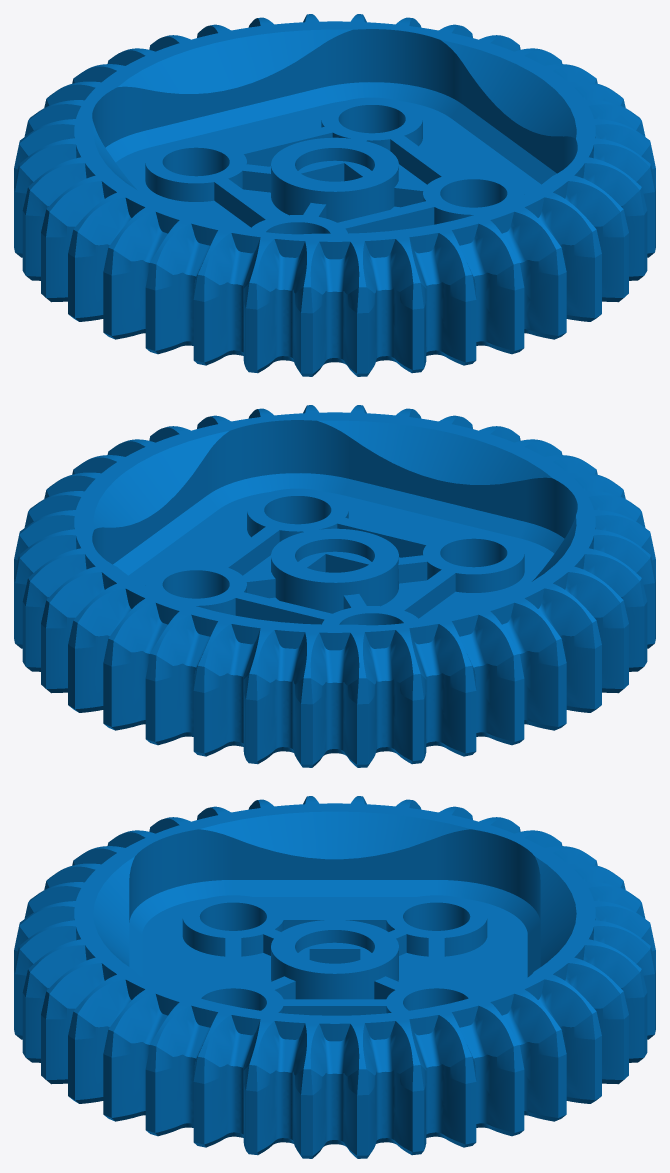
3 views of the same model, one above another, from view 1: azimuth 30°, elevation 25°; view 2: azimuth 150°, elevation 25°; view 3: azimuth 270°, elevation 25° (orthographic).
Visible parts, largest first — view 1: 36 Tooth Hybrid Gear (228-2500-252); view 2: 36 Tooth Hybrid Gear (228-2500-252); view 3: 36 Tooth Hybrid Gear (228-2500-252).
Part boxes in pixels (<box>): 36 Tooth Hybrid Gear (228-2500-252): <box>14,14,655,376</box>; 36 Tooth Hybrid Gear (228-2500-252): <box>14,405,655,767</box>; 36 Tooth Hybrid Gear (228-2500-252): <box>14,796,655,1158</box>.
Size of the model in its own units: 0.0401 by 0.00864 by 0.0401.
